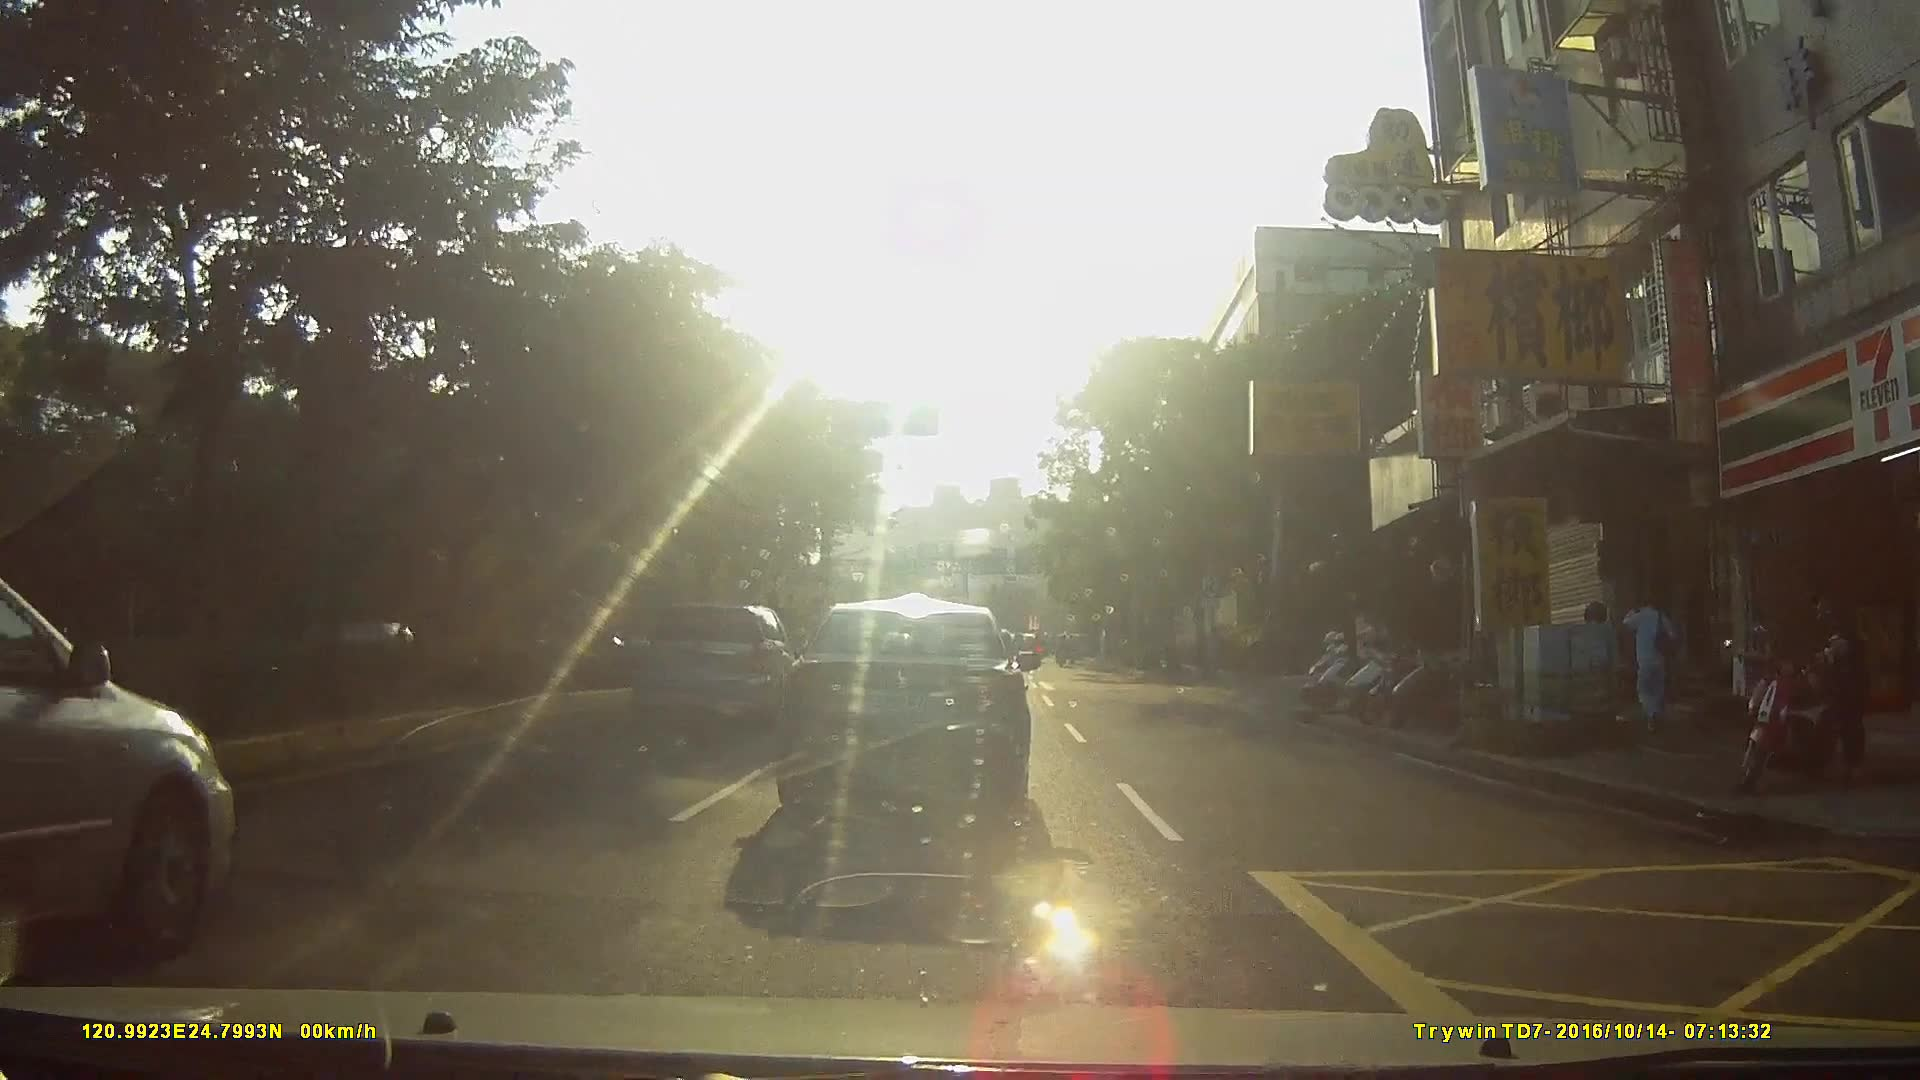pedestrian: (1815, 611, 1879, 786), (1624, 587, 1687, 737)
vehicle: (1, 567, 238, 984), (784, 591, 1060, 831), (640, 601, 804, 727)
